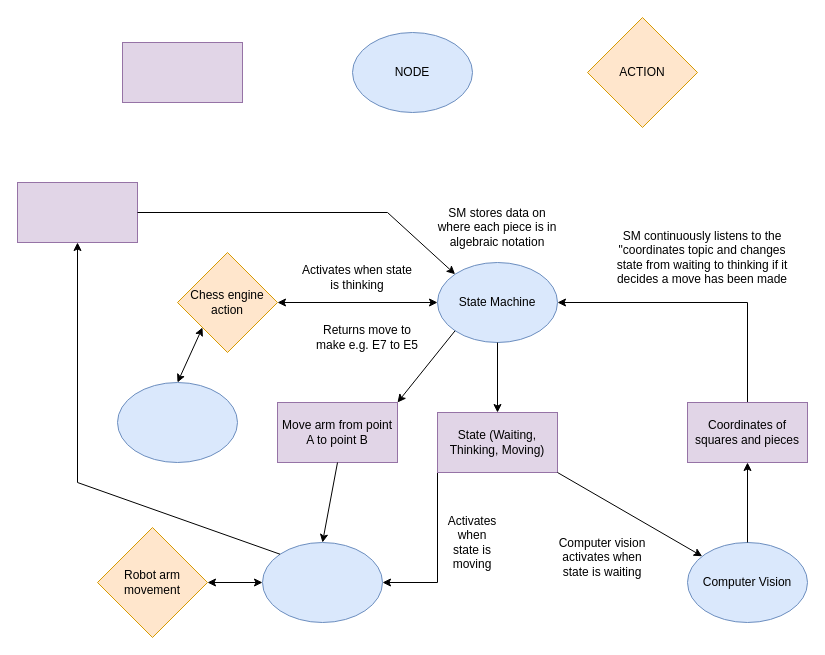
Image size: 825x655. Some labels were removed from this diagram. Each missing label, with the centre of its shape:
Chess engine action server node: [177,422]
Motion Planning: [322,582]
Robot arm movement finished: [77,212]
TOPIC: [182,72]
